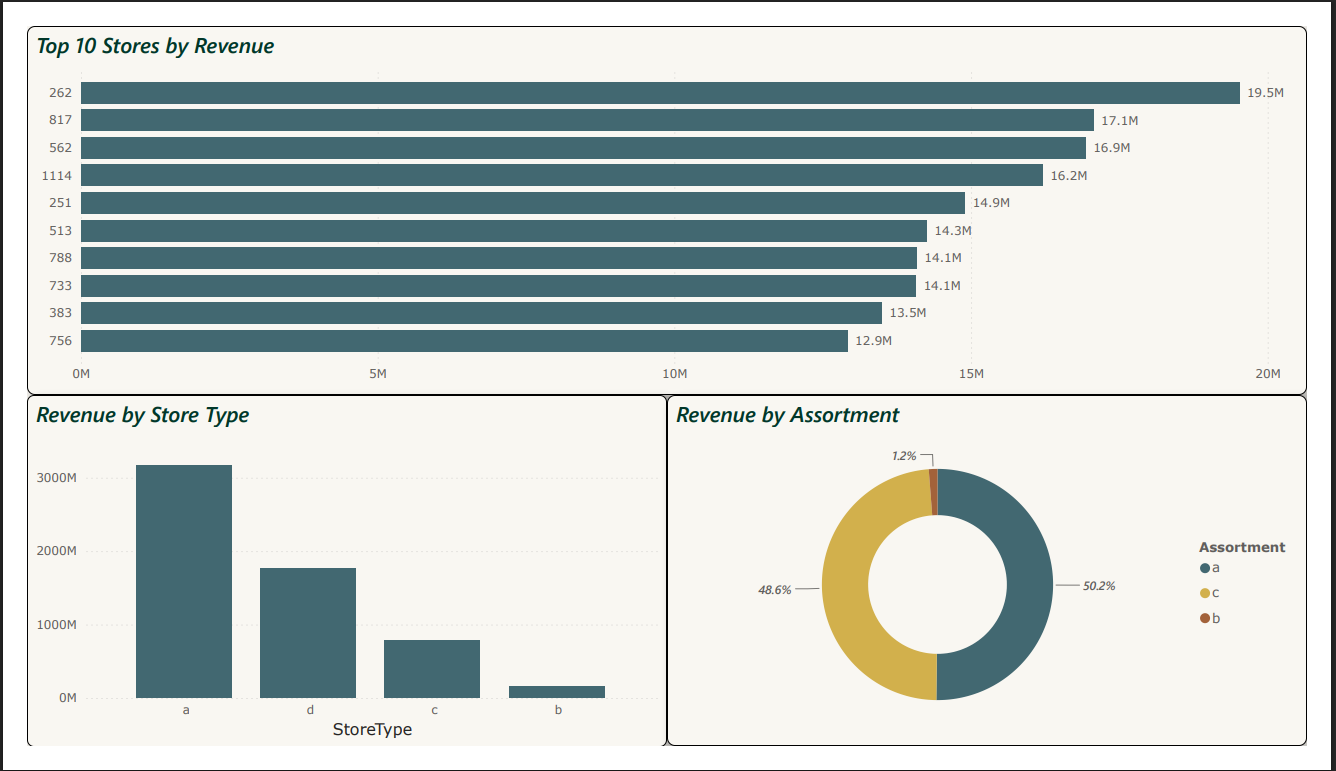

What the dashboard file says about the page in this screenshot:
{"tool":"powerbi","page":{"name":"Store Performance","canvas":[1280,720],"ordinal":1},"visuals":[{"type":"clusteredBarChart","title":"Top 10 Stores by Revenue","fields":{"Y":["Sum(rossmann_powerbi.Sales)"],"Category":["rossmann_powerbi.Store"]},"box":[0,0,1280,369.4],"z":0},{"type":"clusteredColumnChart","title":"Revenue by Store Type","fields":{"Category":["rossmann_powerbi.StoreType"],"Y":["Sum(rossmann_powerbi.Sales)"]},"box":[0,369.4,640,351.2],"z":1000},{"type":"donutChart","title":"Revenue by Assortment","fields":{"Category":["rossmann_powerbi.Assortment"],"Y":["Sum(rossmann_powerbi.Sales)"]},"box":[640,369,640,351],"z":2000}]}

Visuals, with their boxes in screenshot pixels (x1, y1, x2, y2), scaled from the page's 1280x720 canvas onto the 1336x771 screenshot:
"Top 10 Stores by Revenue" clusteredBarChart: 0:0:1335:396
"Revenue by Store Type" clusteredColumnChart: 0:396:668:770
"Revenue by Assortment" donutChart: 668:395:1335:770
